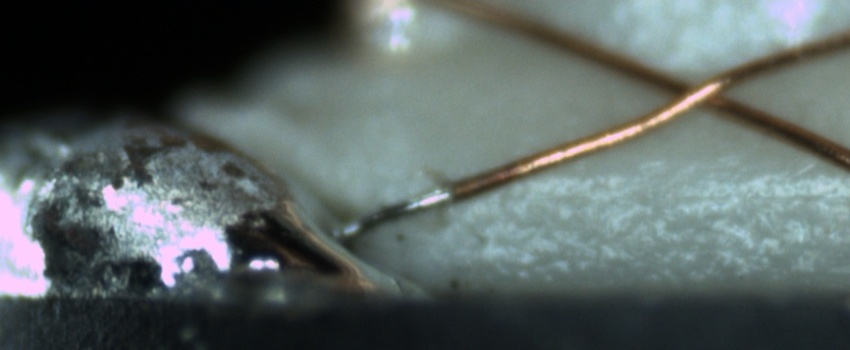CL: (644, 59, 745, 120)
DL: (500, 159, 850, 223)
TS: (336, 186, 453, 236)
TTCW: (326, 168, 505, 246)
